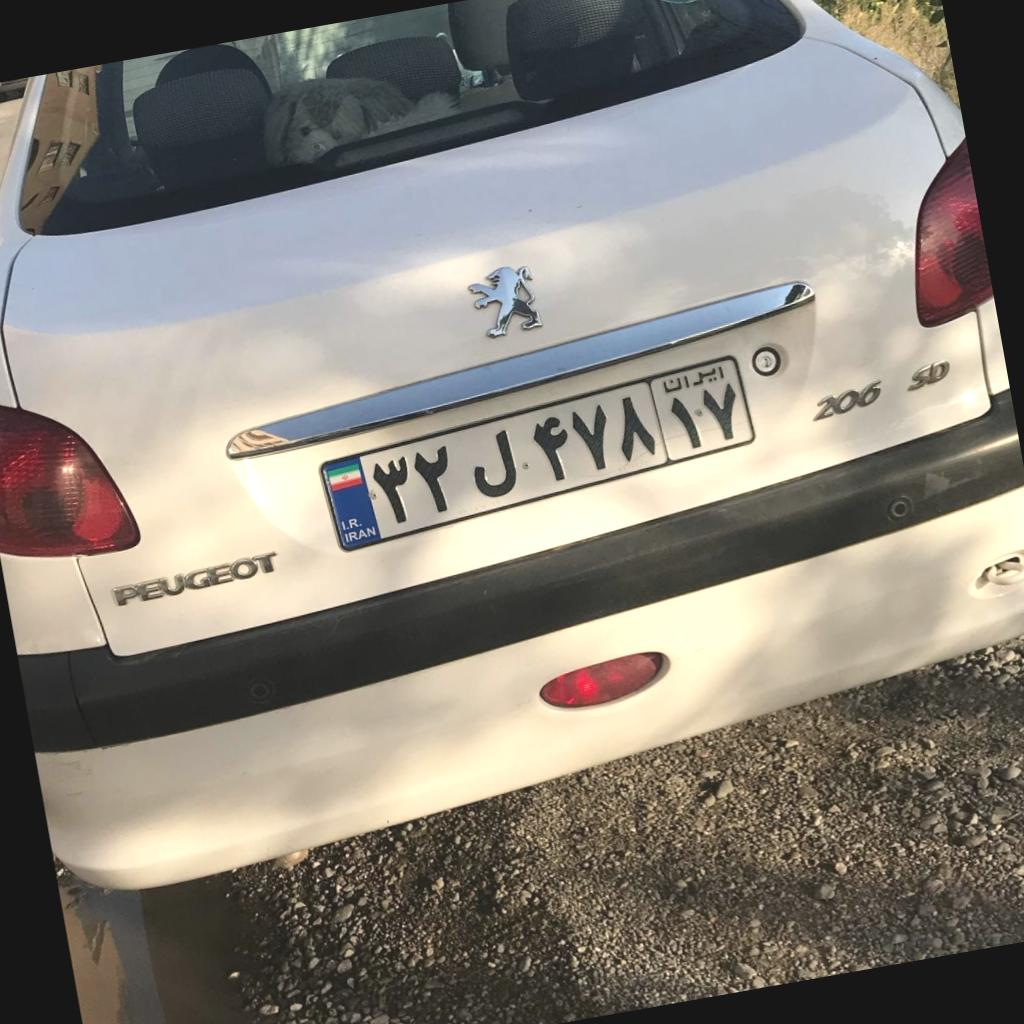Plates: (322, 357, 755, 551)
